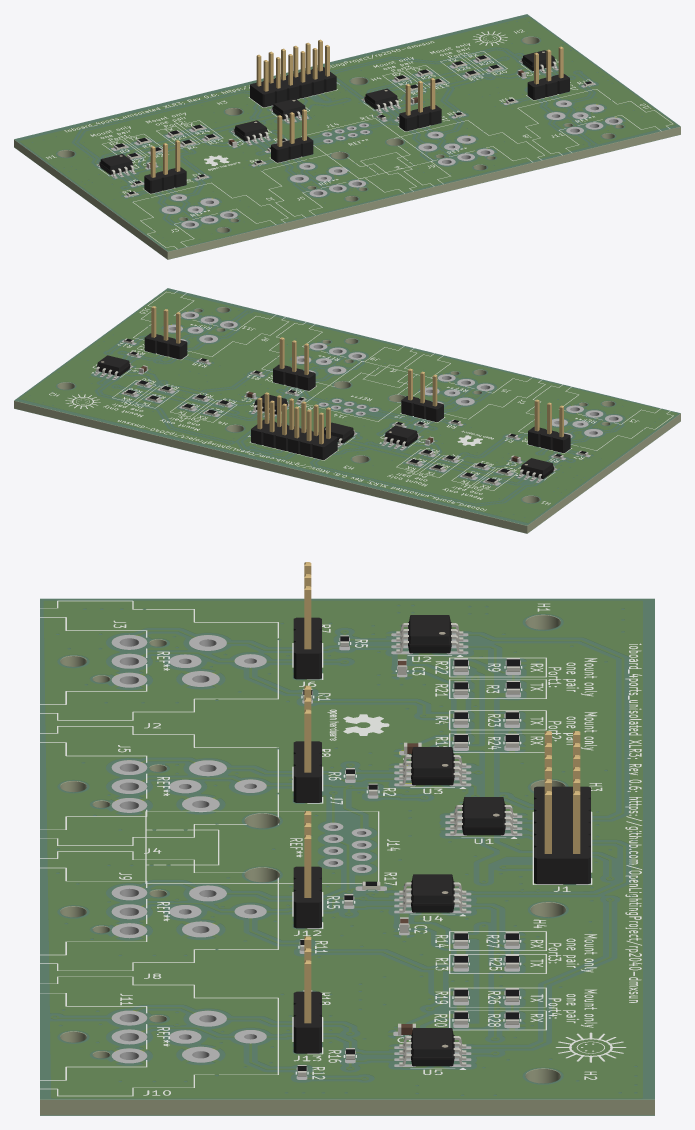
File: board.glb
3 views of the same model, one above another, from view 1: azimuth 30°, elevation 25°; view 2: azimuth 150°, elevation 25°; view 3: azimuth 270°, elevation 25° (orthographic). The views are drawn at different scales.
Visible parts, largest first — view 1: board_soldermask (×2), board_copper, board_PCB, board_silkscreen, PinHeader_1x03_P254mm_Vertical (×4), board_pad, PinHeader_2x06_P254mm_Vertical, SOIC-8_3.9x4.9mm_P1.27mm (×5); view 2: board_soldermask (×2), board_copper, board_PCB, board_silkscreen, PinHeader_1x03_P254mm_Vertical (×4), board_pad, PinHeader_2x06_P254mm_Vertical, SOIC-8_3.9x4.9mm_P1.27mm (×4); view 3: board_soldermask, board_copper, board_PCB, board_silkscreen, board_pad, SOIC-8_3.9x4.9mm_P1.27mm (×5), PinHeader_1x03_P254mm_Vertical (×4), PinHeader_2x06_P254mm_Vertical.
Boxes of the visible parts, bbox=[...] form: board_soldermask (×2): bbox=[14, 14, 680, 259]; board_copper: bbox=[20, 17, 675, 249]; board_PCB: bbox=[14, 15, 680, 259]; board_silkscreen: bbox=[46, 29, 672, 249]; PinHeader_1x03_P254mm_Vertical (×4): bbox=[144, 46, 569, 193]; board_pad: bbox=[97, 57, 622, 228]; PinHeader_2x06_P254mm_Vertical: bbox=[250, 39, 336, 107]; SOIC-8_3.9x4.9mm_P1.27mm (×5): bbox=[98, 50, 557, 177]; board_soldermask (×2): bbox=[14, 288, 680, 533]; board_copper: bbox=[19, 291, 676, 522]; board_PCB: bbox=[14, 289, 680, 533]; board_silkscreen: bbox=[49, 290, 673, 511]; PinHeader_1x03_P254mm_Vertical (×4): bbox=[144, 306, 570, 452]; board_pad: bbox=[94, 311, 622, 485]; PinHeader_2x06_P254mm_Vertical: bbox=[251, 392, 337, 459]; SOIC-8_3.9x4.9mm_P1.27mm (×4): bbox=[95, 355, 555, 481]; board_soldermask: bbox=[40, 598, 654, 1099]; board_copper: bbox=[44, 601, 642, 1097]; board_PCB: bbox=[40, 599, 654, 1115]; board_silkscreen: bbox=[40, 600, 641, 1096]; board_pad: bbox=[111, 633, 522, 1079]; SOIC-8_3.9x4.9mm_P1.27mm (×5): bbox=[396, 615, 517, 1066]; PinHeader_1x03_P254mm_Vertical (×4): bbox=[293, 562, 321, 1053]; PinHeader_2x06_P254mm_Vertical: bbox=[534, 731, 590, 884].
Bounding box in the file's own units: 0.106 × 0.0115 × 0.055.
